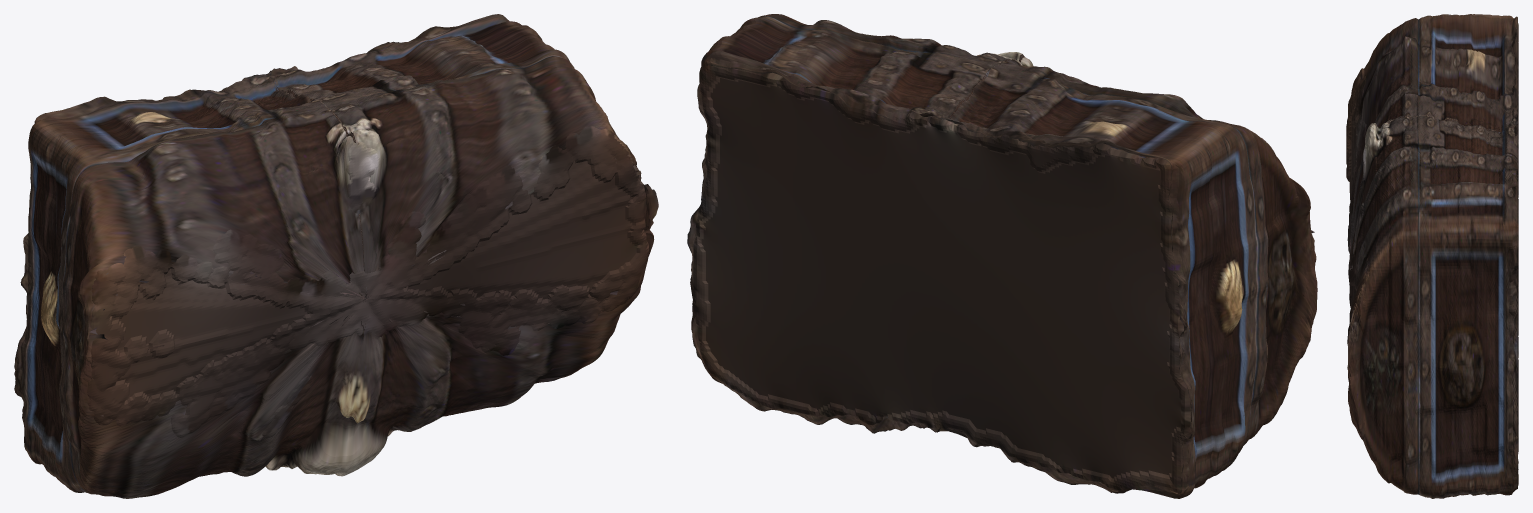
The model's file is volume2_mesh.glb.
3 renders of one model, left to right at view 1: azimuth 30°, elevation 25°; view 2: azimuth 150°, elevation 25°; view 3: azimuth 270°, elevation 25°, orthographic. The views are drawn at different scales.
Visible parts, largest first — view 1: ipn, fill; view 2: fill, ipn; view 3: ipn, fill.
Boxes of the visible parts, bbox=[...] form: ipn: bbox=[14, 14, 658, 498]; fill: bbox=[19, 27, 649, 450]; fill: bbox=[693, 58, 1313, 495]; ipn: bbox=[687, 14, 1317, 498]; ipn: bbox=[1347, 14, 1517, 498]; fill: bbox=[1346, 18, 1518, 492].
Size of the model in its own units: 1.96 by 1.21 by 0.5927.
2 materials, 1 textured.
